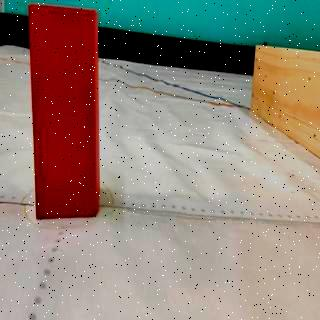redbox: (28, 3, 101, 220)
